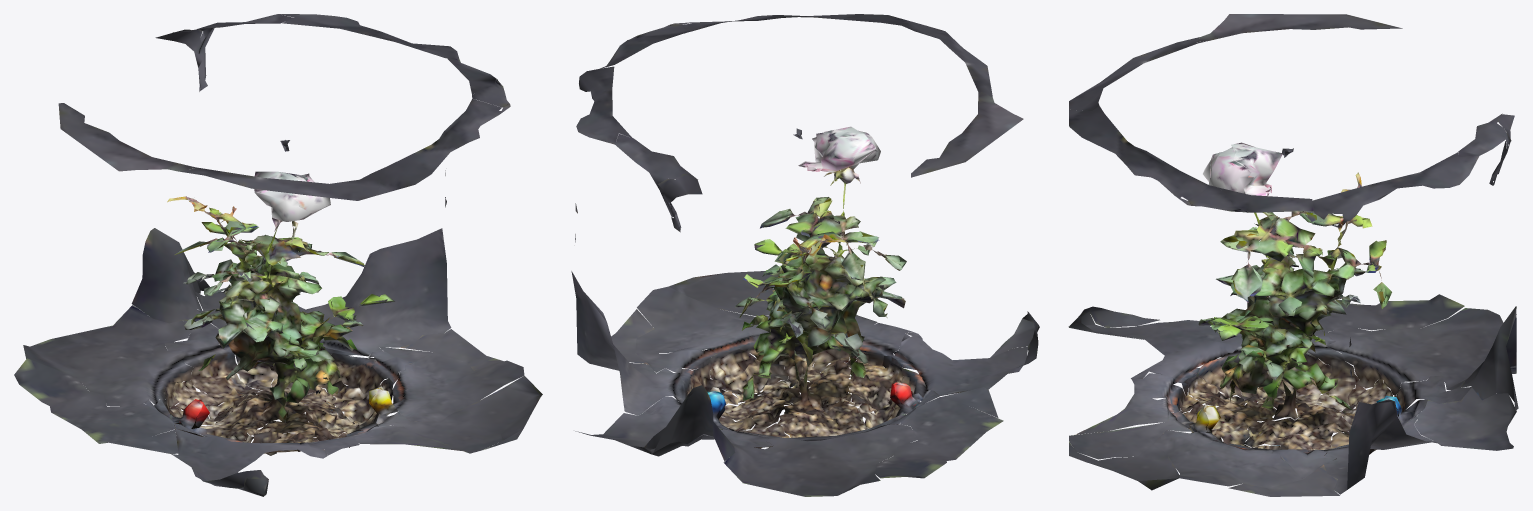
The picture shows the model from 3 angles, left to right: view 1: azimuth 30°, elevation 25°; view 2: azimuth 150°, elevation 25°; view 3: azimuth 270°, elevation 25°; orthographic projection.
Visible parts, largest first — view 1: _92F32855_9E78_4D9F_B5C2_95983FF1FC6F; view 2: _92F32855_9E78_4D9F_B5C2_95983FF1FC6F; view 3: _92F32855_9E78_4D9F_B5C2_95983FF1FC6F.
Part boxes in pixels (x1=…): _92F32855_9E78_4D9F_B5C2_95983FF1FC6F: x1=14, y1=14, x2=542, y2=496; _92F32855_9E78_4D9F_B5C2_95983FF1FC6F: x1=571, y1=14, x2=1039, y2=496; _92F32855_9E78_4D9F_B5C2_95983FF1FC6F: x1=1068, y1=14, x2=1518, y2=496.
Size of what is drawn, in the model's own units: 1.42 by 1.17 by 1.43.
Materials: 1 (1 with a texture image).
